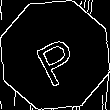P_NW: (27, 24, 83, 86)
